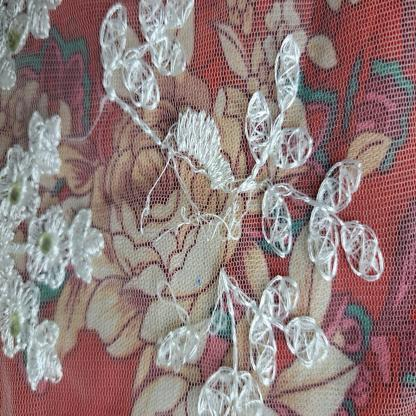spot: (4, 171, 23, 206), (38, 229, 56, 260), (6, 22, 24, 53), (7, 311, 24, 336), (195, 276, 204, 287)
